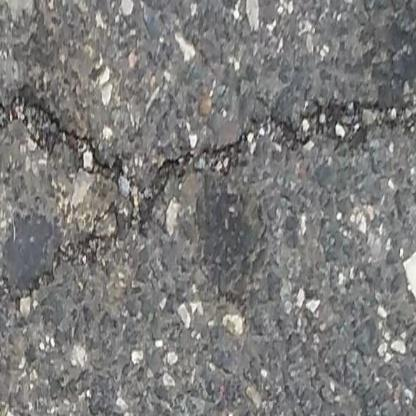Cracks: (0, 75, 416, 312)
